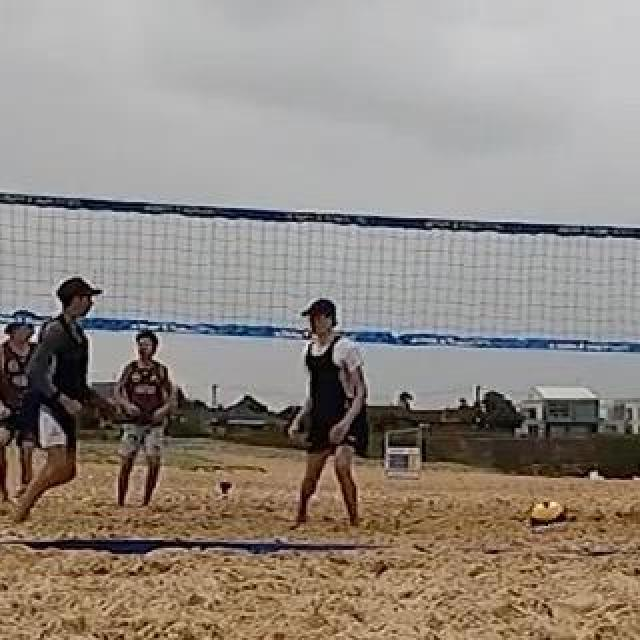volleyball: (529, 500, 565, 536)
